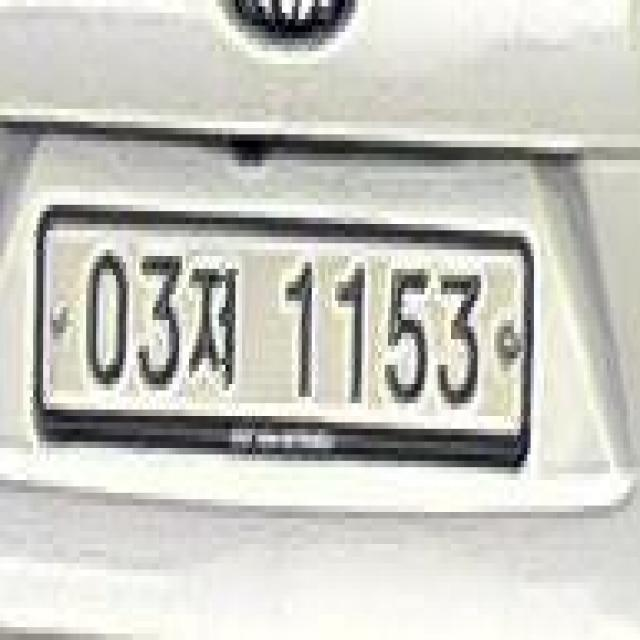illegal_plate: (38, 194, 534, 496)
